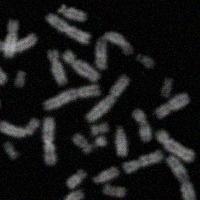chromosome: (85, 75, 129, 122), (43, 84, 100, 110), (167, 155, 199, 200), (95, 31, 133, 68), (47, 13, 91, 43), (156, 129, 195, 162), (61, 49, 98, 82), (124, 150, 164, 173), (155, 93, 190, 119), (0, 116, 39, 137), (47, 49, 66, 86), (0, 34, 37, 53), (132, 109, 151, 142), (43, 117, 56, 165), (4, 18, 17, 58), (58, 4, 87, 21), (65, 169, 86, 189), (92, 167, 118, 183), (73, 134, 92, 154), (115, 126, 126, 156), (53, 189, 83, 200), (103, 183, 124, 197), (3, 140, 18, 159), (137, 53, 154, 68), (0, 46, 6, 83), (161, 78, 172, 98), (91, 123, 109, 135), (14, 70, 25, 87), (93, 135, 106, 146)
